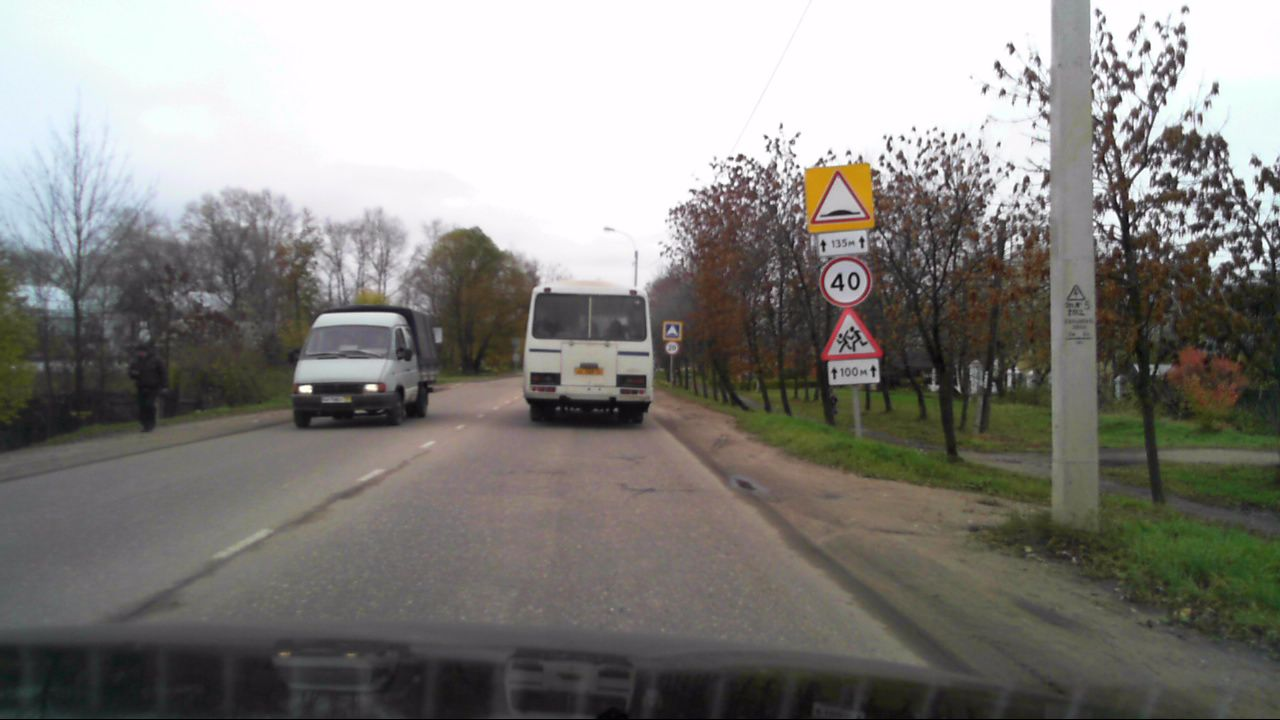speed_warning_40: (818, 256, 874, 308)
